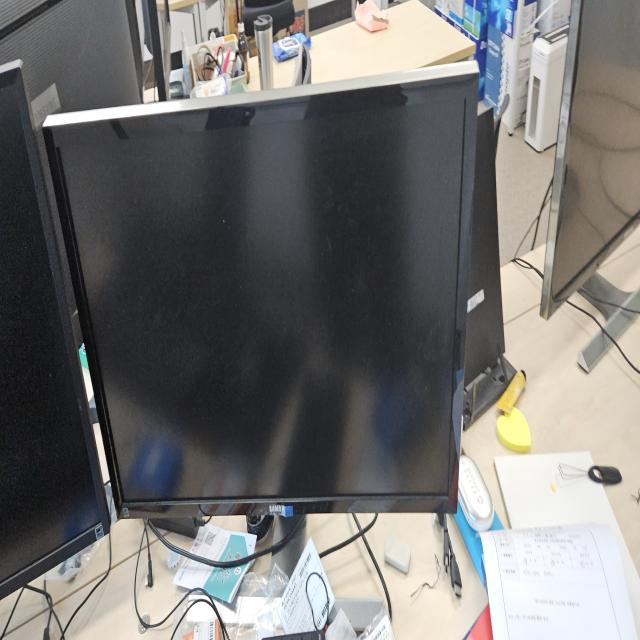Monitor: (40, 58, 482, 538)
